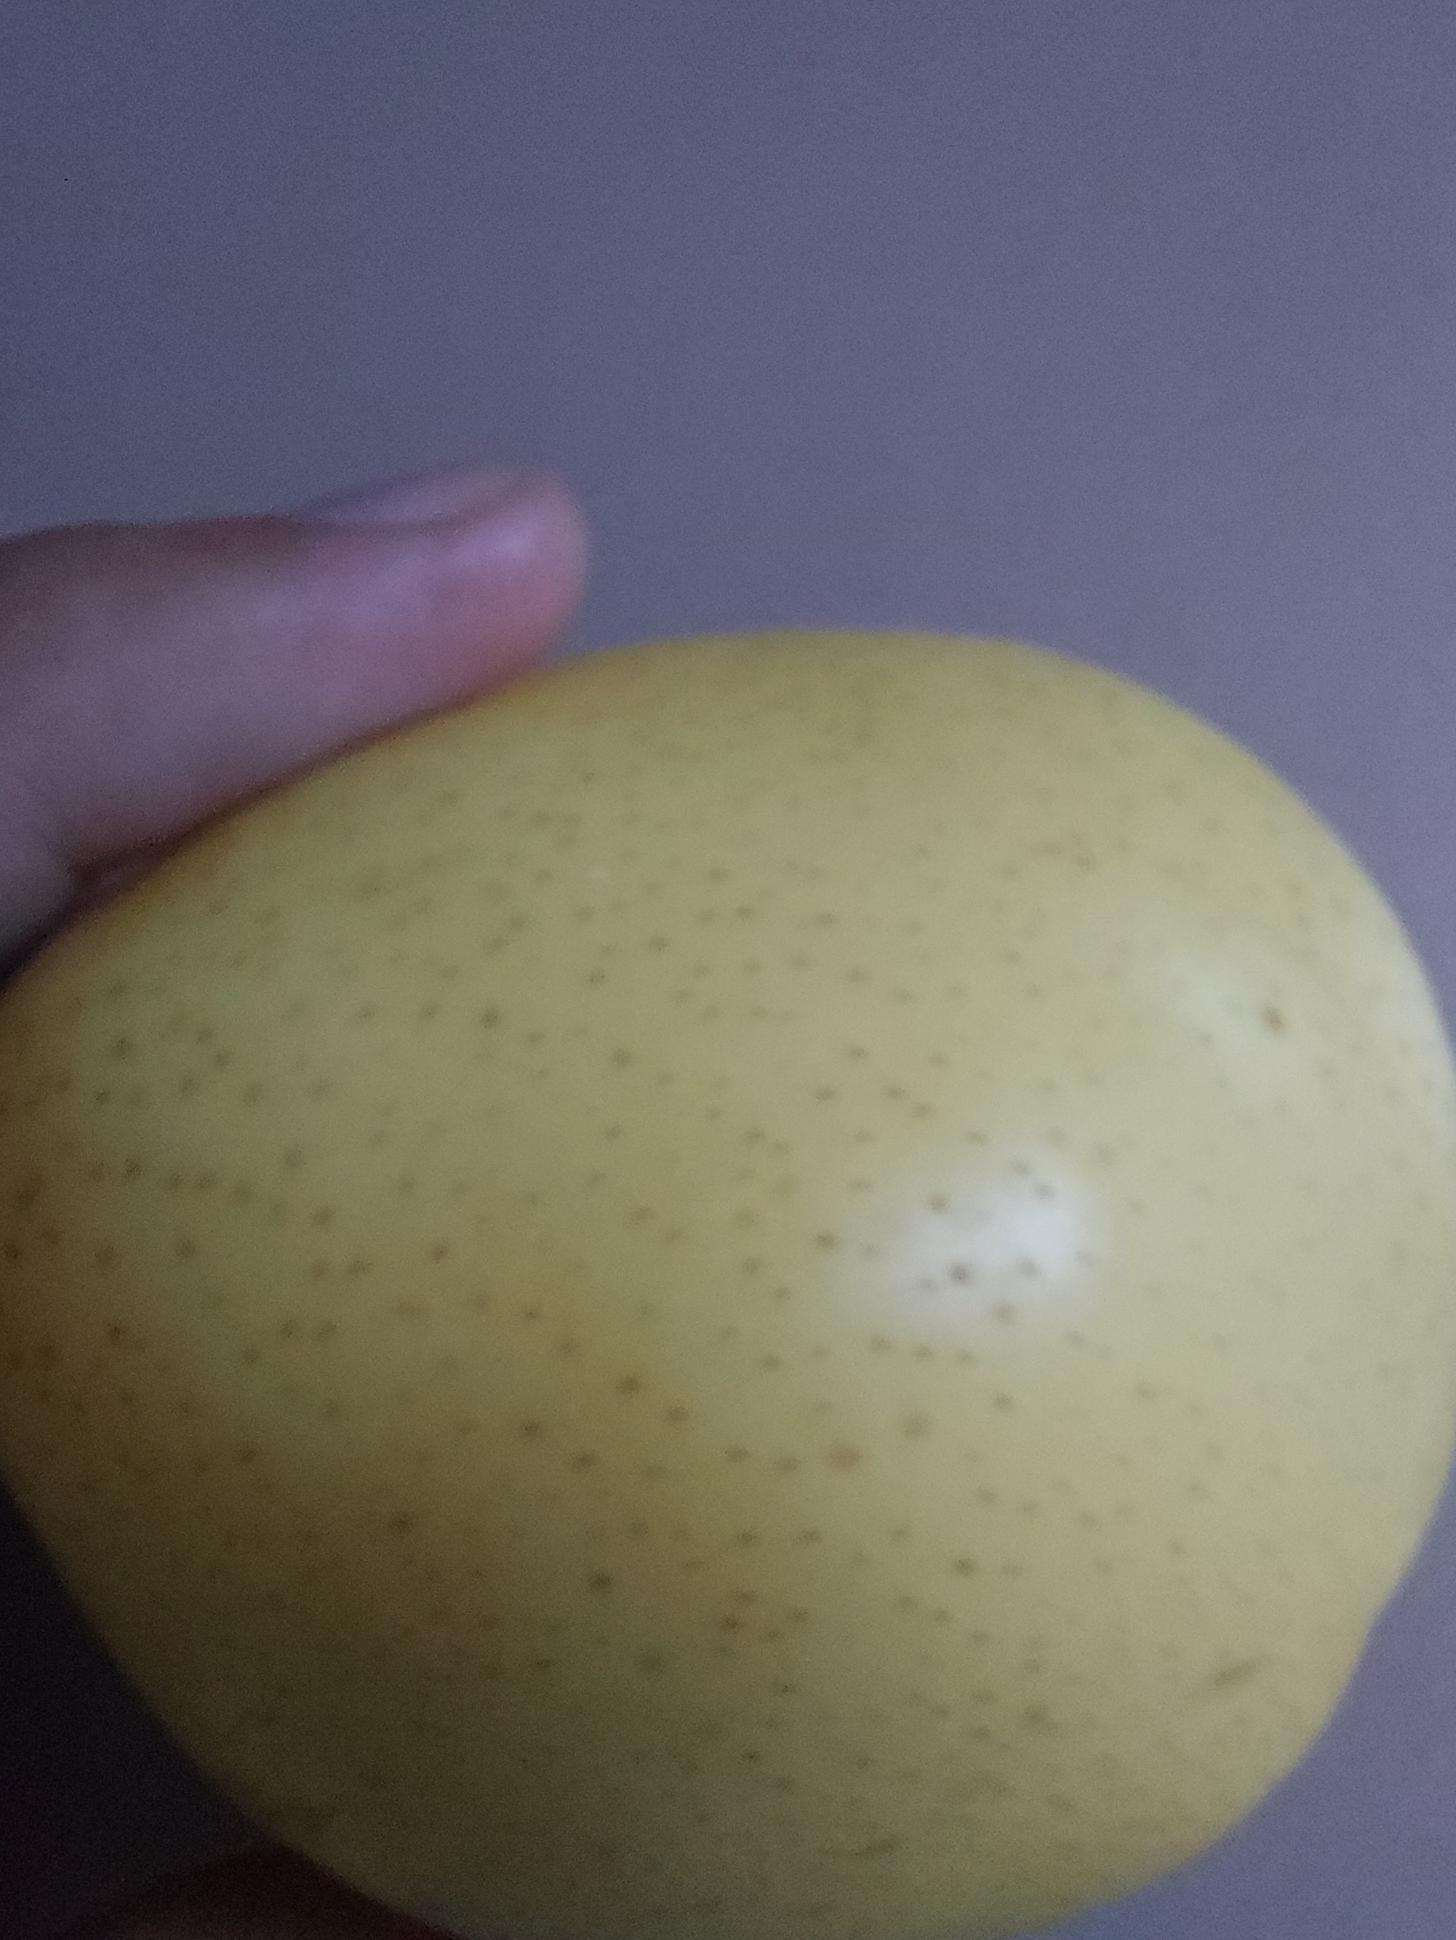Good Pear: (0, 627, 1456, 1940)
